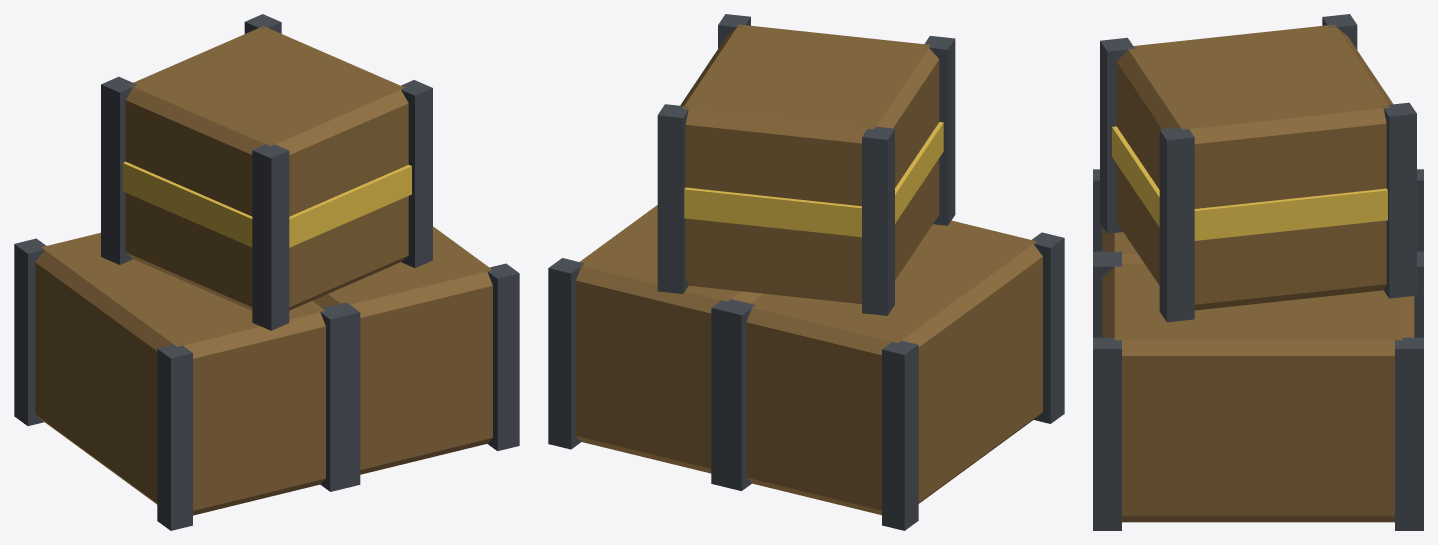
File: env_r1_crate_stack.glb
The picture shows the model from 3 angles, left to right: view 1: azimuth 30°, elevation 25°; view 2: azimuth 150°, elevation 25°; view 3: azimuth 270°, elevation 25°; orthographic projection. The views are drawn at different scales.
Parts seen in each view (by area): view 1: env_r1_crate_stack; view 2: env_r1_crate_stack; view 3: env_r1_crate_stack.
Part boxes in pixels (x1,y1,x2,y2): env_r1_crate_stack: (14,14,519,530); env_r1_crate_stack: (548,14,1064,530); env_r1_crate_stack: (1093,14,1423,530).
Bounding box in the file's own units: 1.8 × 1.7 × 1.4.
Materials: 1 (1 with a texture image).
